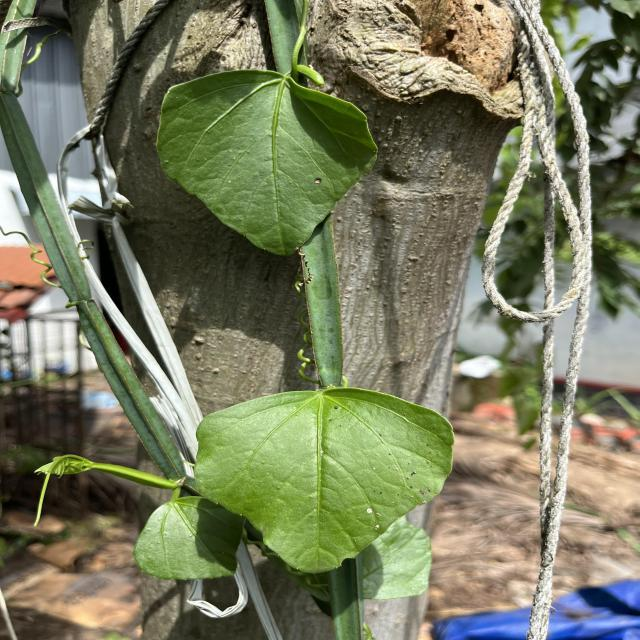Cissus quadrangularis: (191, 384, 458, 576), (154, 67, 381, 259)
